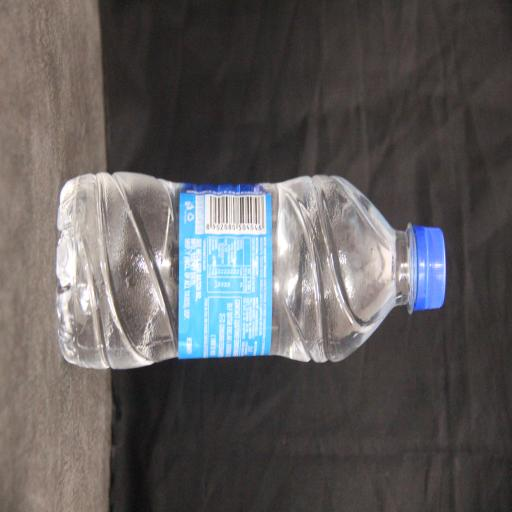Aquafina: (91, 68, 270, 512)
